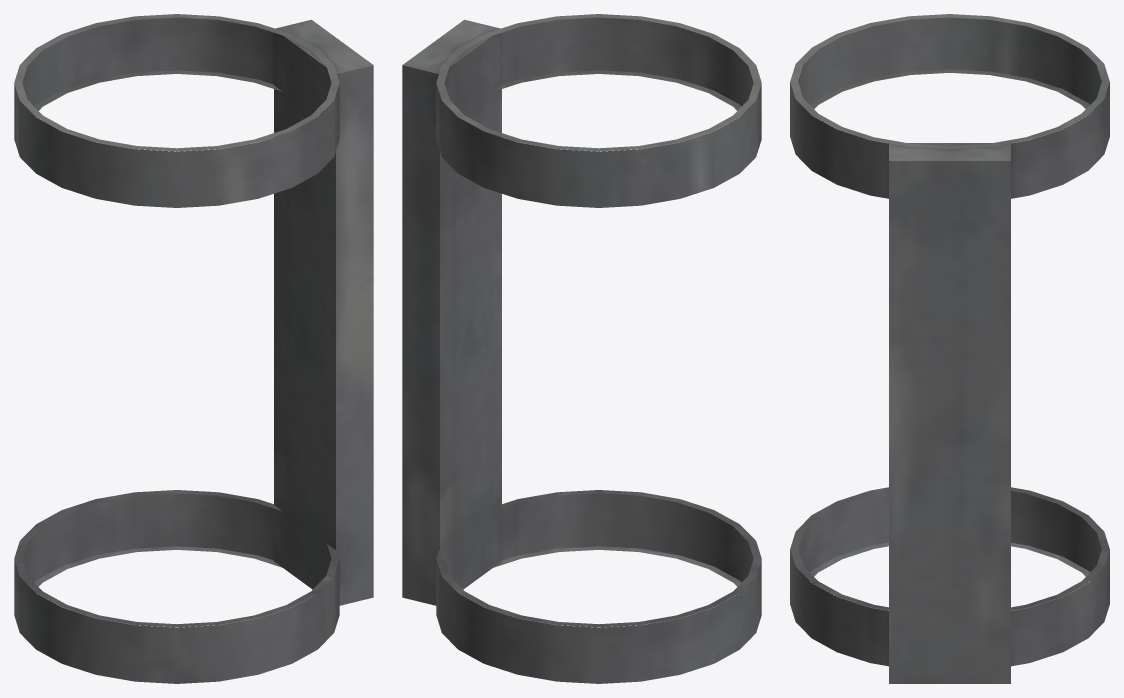
The model's file is pedMountMast-v1-galvanised.glb.
3 renders of one model, left to right at view 1: azimuth 30°, elevation 25°; view 2: azimuth 150°, elevation 25°; view 3: azimuth 270°, elevation 25°, orthographic.
Visible parts, largest first — view 1: pedMountMast-v1-galvanised; view 2: pedMountMast-v1-galvanised; view 3: pedMountMast-v1-galvanised.
Boxes of the visible parts, x1,y1,x2,y2 form: pedMountMast-v1-galvanised: (14, 14, 373, 683); pedMountMast-v1-galvanised: (402, 14, 761, 683); pedMountMast-v1-galvanised: (790, 14, 1109, 683).
Bounding box in the file's own units: 0.2845 × 0.4721 × 0.2615.
1 material, 1 textured.
